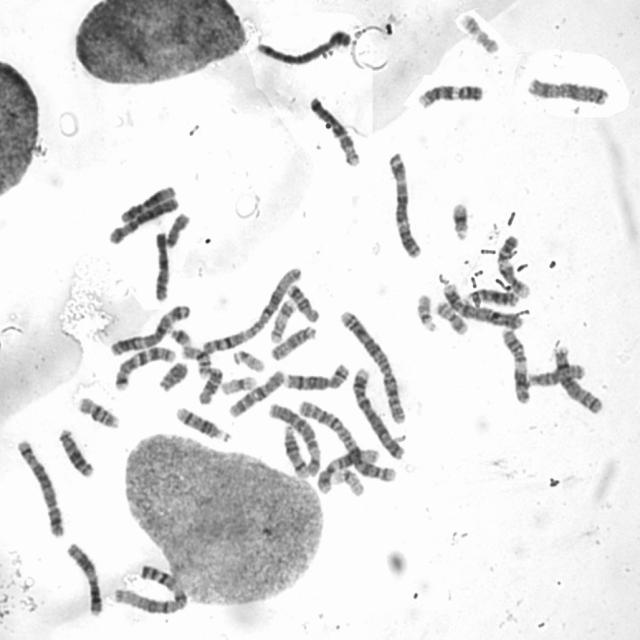A1: (198, 261, 304, 356), (109, 559, 190, 616)
A2: (295, 395, 399, 484), (337, 305, 410, 425)
A3: (106, 298, 194, 357), (385, 148, 425, 260)
B4: (350, 363, 408, 461), (439, 278, 526, 329)
B5: (13, 434, 67, 538), (253, 25, 354, 67)
C10: (225, 366, 287, 419), (153, 230, 172, 303)
C11: (64, 538, 105, 617), (498, 324, 533, 404)
C12: (316, 443, 382, 495), (117, 181, 179, 225)
C6: (266, 399, 324, 478), (104, 190, 180, 245)
C7: (307, 96, 363, 169), (112, 342, 178, 392)
C8: (552, 342, 605, 416), (281, 358, 352, 393)
C9: (494, 231, 534, 300), (414, 78, 487, 110)
D13: (54, 423, 96, 479), (463, 284, 521, 308)
D14: (172, 401, 234, 444), (280, 420, 311, 479)
D15: (267, 321, 319, 361), (524, 360, 588, 389)
E16: (74, 392, 123, 430), (179, 342, 214, 378)
E17: (456, 7, 502, 55), (267, 295, 298, 345)
E18: (284, 280, 322, 324), (194, 361, 225, 406)
F19: (332, 464, 368, 498), (218, 371, 258, 396)
F20: (432, 296, 471, 336), (163, 208, 192, 248)
G21: (449, 198, 472, 242), (165, 322, 192, 348)
G22: (414, 288, 439, 334), (229, 346, 267, 374)
X: (524, 73, 612, 107)
Y: (156, 357, 190, 392)
